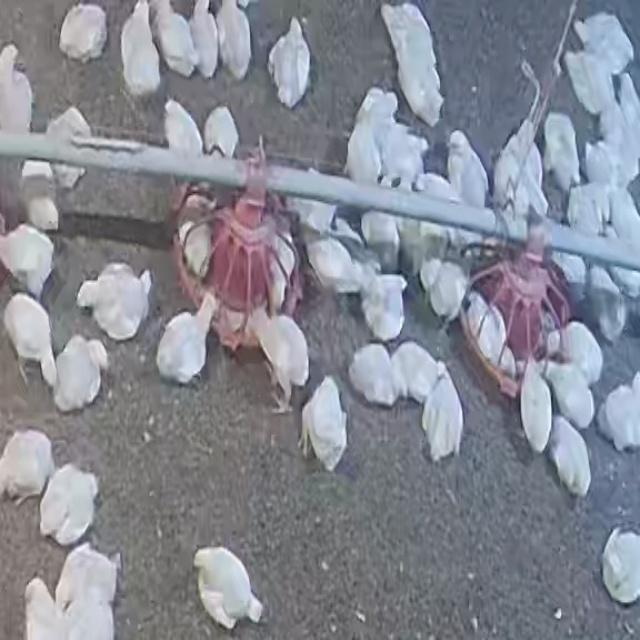chicken: (156, 292, 220, 388), (251, 308, 311, 410), (77, 262, 153, 341), (194, 546, 265, 630), (1, 292, 61, 388), (38, 462, 101, 546), (49, 332, 108, 416), (300, 230, 374, 292), (0, 221, 57, 300), (421, 365, 466, 464), (0, 428, 55, 506), (55, 548, 124, 609), (540, 357, 596, 432), (302, 381, 348, 472), (44, 108, 92, 193), (120, 1, 162, 98), (266, 17, 312, 104), (544, 320, 604, 386), (150, 0, 199, 80), (469, 294, 515, 378), (546, 416, 592, 496), (447, 132, 491, 214), (597, 371, 640, 452), (380, 3, 438, 63), (348, 342, 400, 407), (422, 259, 470, 329), (542, 111, 582, 195), (380, 121, 428, 189), (391, 342, 442, 404), (600, 526, 640, 605), (520, 359, 553, 454), (574, 17, 633, 70), (346, 108, 385, 188), (397, 55, 442, 124), (58, 2, 108, 63), (585, 266, 627, 338), (0, 46, 34, 134), (216, 0, 253, 80), (516, 138, 552, 218), (364, 277, 408, 342), (61, 590, 118, 639), (19, 163, 58, 232), (179, 197, 213, 275), (162, 99, 204, 162), (188, 0, 221, 79), (24, 578, 66, 640), (564, 54, 612, 108), (396, 218, 433, 278), (606, 187, 640, 250), (566, 185, 604, 238), (615, 74, 640, 152), (203, 105, 239, 158), (268, 235, 294, 307), (444, 214, 486, 258), (216, 300, 252, 351), (357, 86, 399, 125), (360, 212, 394, 260), (380, 2, 417, 46), (582, 142, 616, 188), (294, 193, 335, 231), (608, 258, 640, 306), (496, 150, 520, 212), (550, 251, 588, 286), (331, 216, 364, 248), (419, 256, 443, 300), (86, 338, 108, 371)
